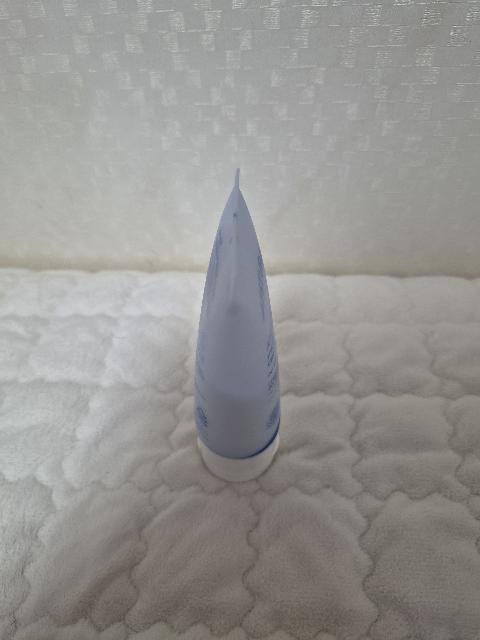handcream: (194, 168, 281, 482)
